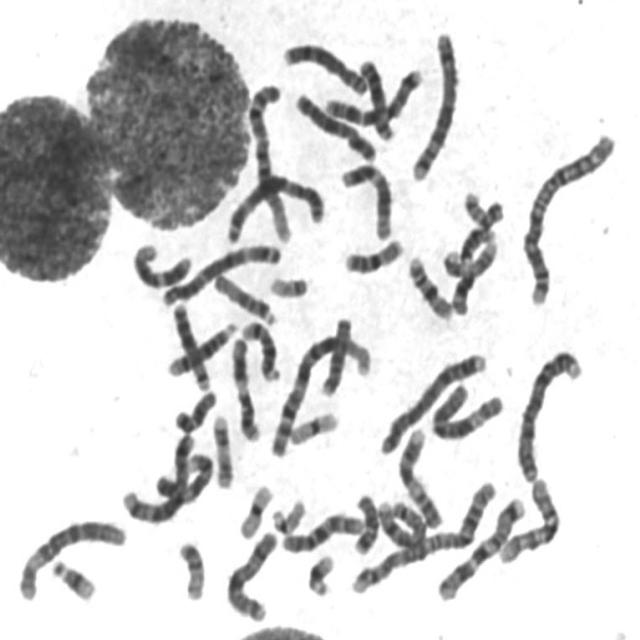A1: (265, 325, 374, 459), (243, 76, 295, 244)
A2: (347, 473, 500, 597), (518, 125, 619, 308)
A3: (157, 237, 285, 308), (220, 167, 329, 246)
B4: (374, 344, 490, 458), (511, 343, 586, 485)
B5: (407, 23, 461, 184), (118, 428, 199, 526)
C10: (494, 472, 563, 566), (276, 506, 366, 556)
C11: (448, 221, 499, 318), (225, 330, 262, 443)
C12: (336, 156, 395, 242), (127, 237, 194, 290)
C6: (12, 512, 128, 603), (426, 377, 506, 442)
C7: (432, 490, 529, 603), (320, 60, 428, 128)
C8: (278, 35, 370, 97), (376, 498, 428, 548)
C9: (394, 421, 446, 532), (152, 447, 216, 507)
D13: (168, 294, 214, 393), (355, 51, 398, 143)
D14: (163, 315, 240, 378), (238, 314, 282, 383)
D15: (209, 266, 280, 326), (316, 310, 354, 399)
E16: (404, 249, 456, 322), (339, 232, 406, 276)
E17: (438, 231, 499, 279), (207, 407, 236, 491)
E18: (170, 383, 219, 434), (349, 486, 381, 556)
F19: (234, 478, 275, 540), (284, 404, 341, 447)
F20: (173, 534, 207, 602), (459, 186, 506, 232)
G21: (46, 551, 98, 604), (302, 548, 337, 599)
G22: (266, 492, 308, 536), (265, 268, 311, 300)
X: (291, 85, 378, 163), (220, 525, 280, 624)
